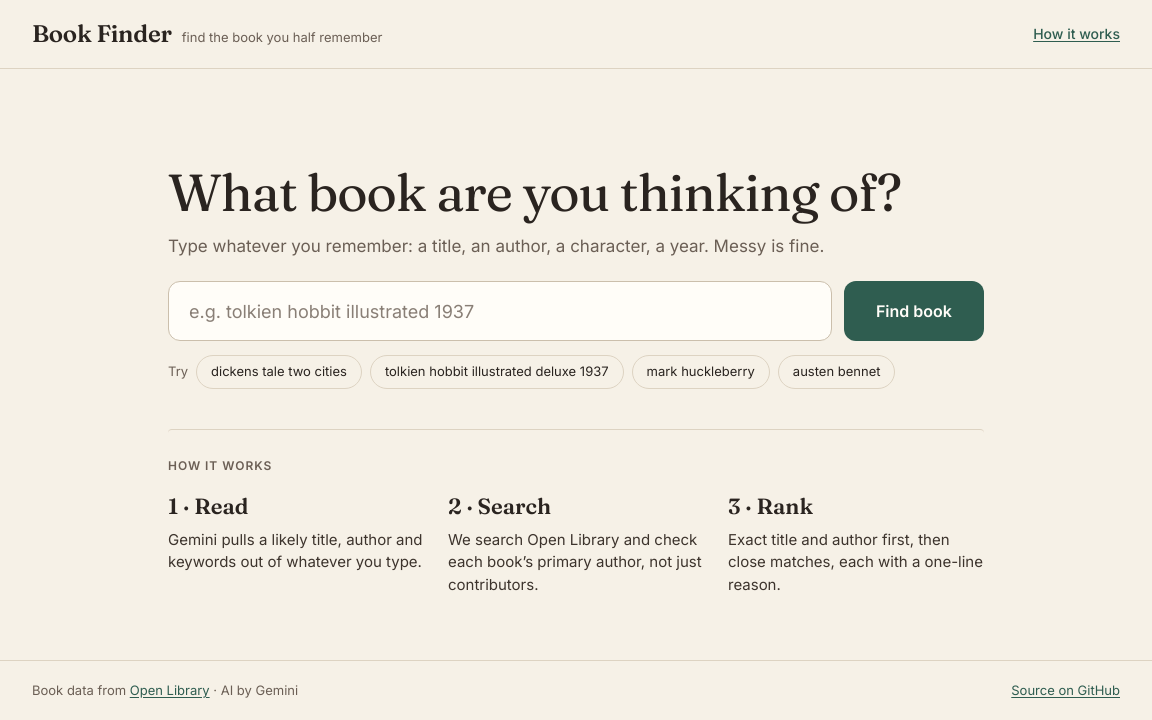
Test: App › shows keyword-only guesses without pretending they match
In the search field labelled "What book are you thinking of?": [500, 311] box [168, 281, 832, 341], type "a whale and a lighthouse"
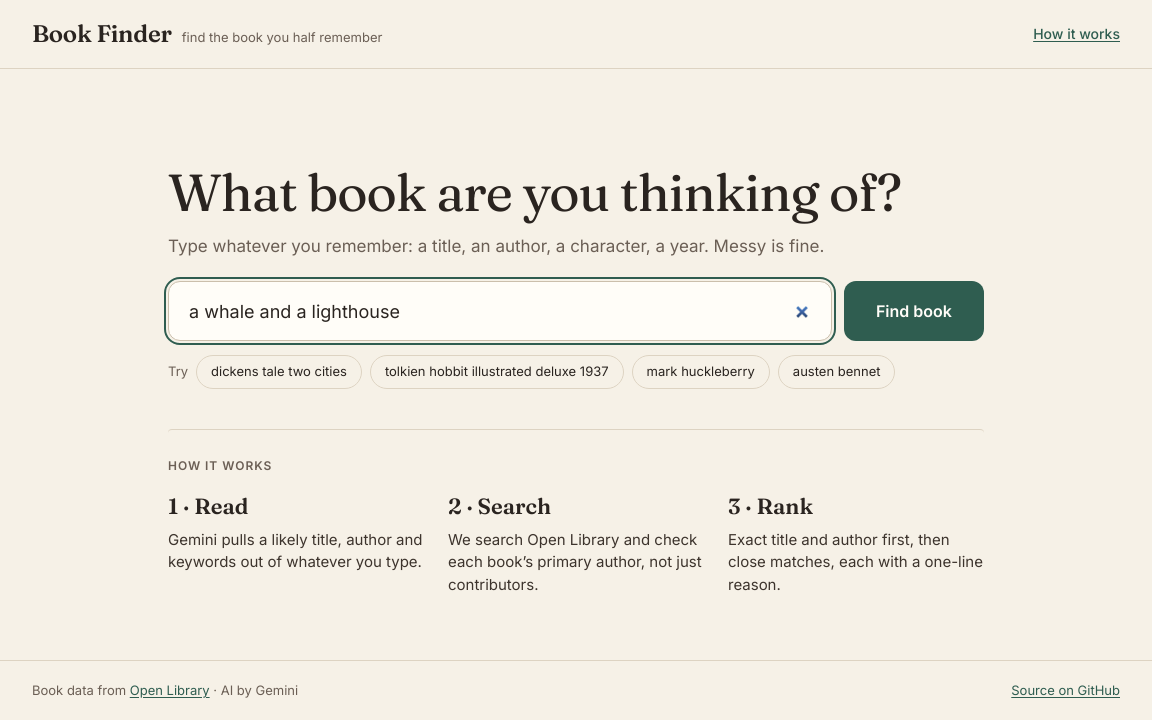
Click the button "Find book": [914, 311] box [844, 281, 984, 341]
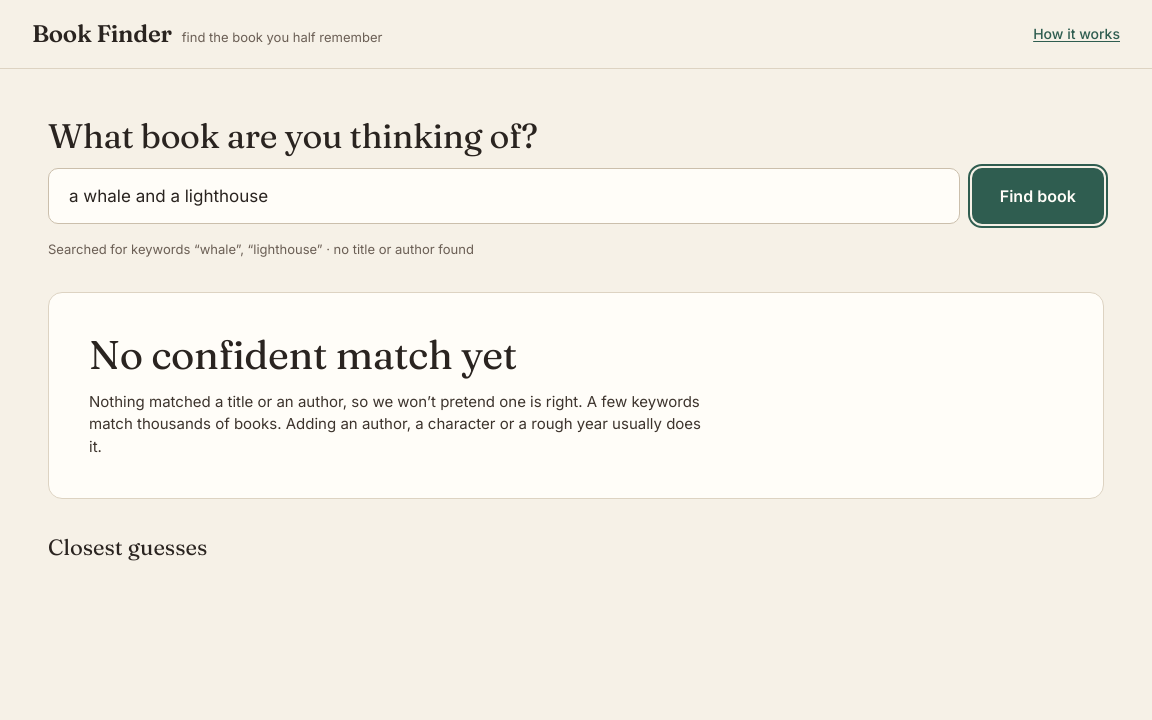
Now the heading "No confident match yet" is shown, box [89, 330, 517, 379]
Now the heading "Closest guesses" is shown, box [48, 533, 207, 561]
